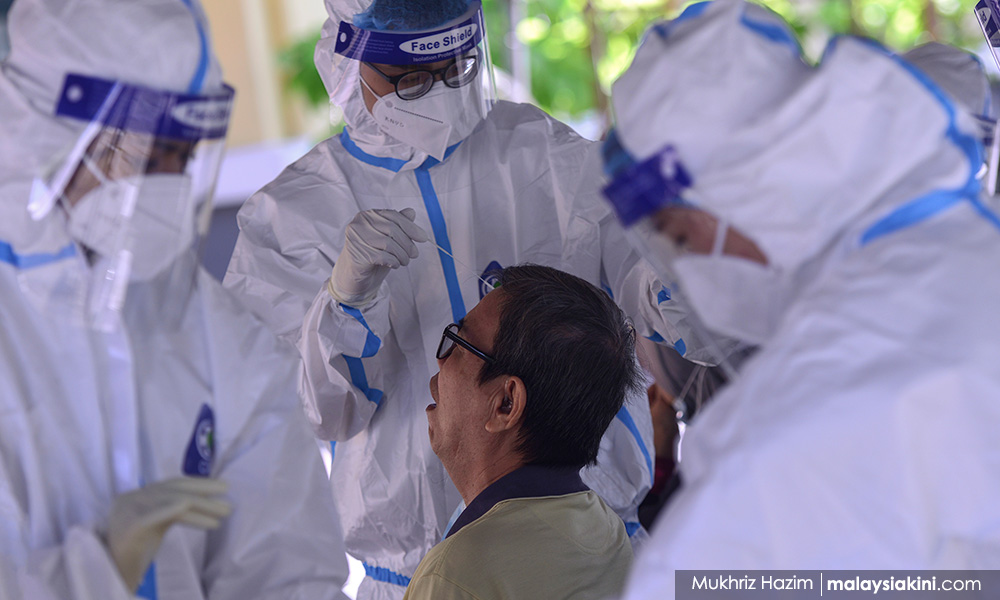Coverall: (228, 5, 669, 600), (595, 1, 1000, 600), (4, 1, 350, 599)
Face_Shield: (6, 55, 248, 322), (593, 139, 766, 403), (332, 3, 506, 152)
Gloves: (100, 470, 237, 592), (325, 200, 430, 311)
with_mask: (69, 123, 205, 285), (657, 207, 781, 352), (367, 54, 485, 162)
without_mask: (423, 286, 519, 481)
